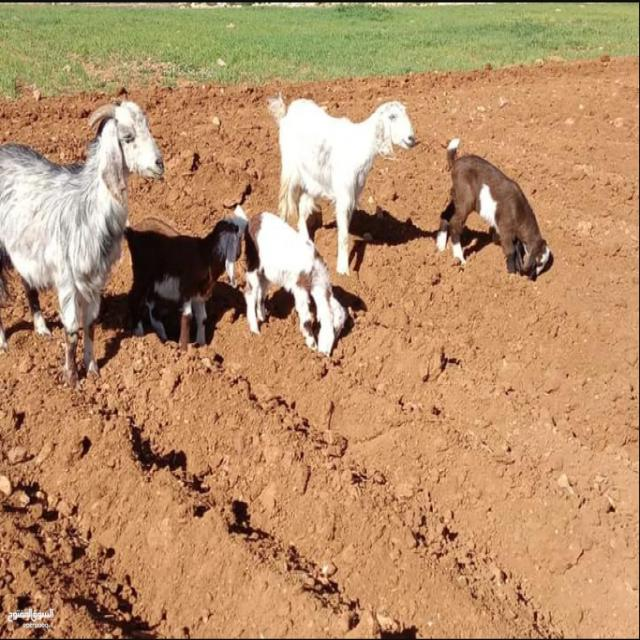goat: (12, 87, 157, 412), (418, 89, 557, 398), (261, 76, 404, 362), (238, 180, 362, 402), (151, 192, 260, 401)
